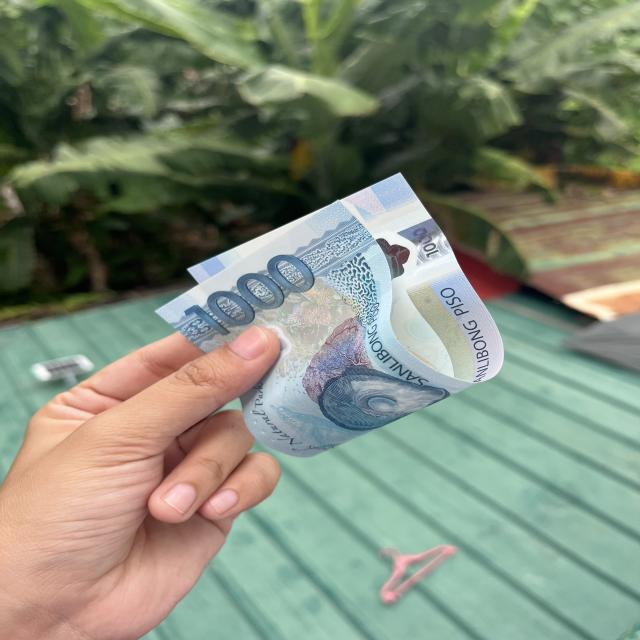clear_window: (366, 205, 465, 296)
